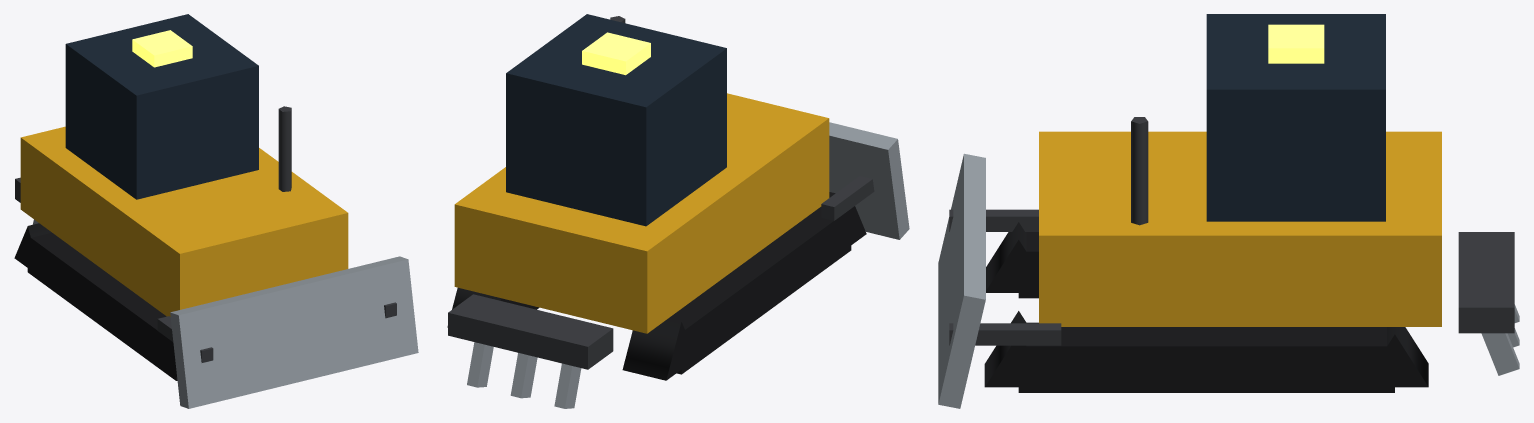
Rendered from veh_ground_bulldozer_a08_lod2.glb.
The picture shows the model from 3 angles, left to right: view 1: azimuth 30°, elevation 25°; view 2: azimuth 150°, elevation 25°; view 3: azimuth 270°, elevation 25°; orthographic projection. The views are drawn at different scales.
Visible parts, largest first — view 1: body, blade, track_r; view 2: body, track_r, ripper, blade, track_l; view 3: body, track_l, blade, ripper, track_r.
Boxes of the visible parts, x1,y1,x2,y2 form: body: (20, 14, 348, 316); blade: (157, 256, 418, 408); track_r: (14, 223, 177, 380); body: (454, 14, 829, 333); track_r: (622, 192, 866, 380); ripper: (448, 294, 613, 408); blade: (821, 122, 909, 239); track_l: (447, 287, 539, 327); body: (1039, 14, 1441, 326); track_l: (984, 311, 1428, 392); blade: (938, 153, 1061, 408); ripper: (1458, 232, 1519, 375); track_r: (986, 222, 1038, 298).
Size of the model in its own units: 3 by 3.08 by 5.19.
